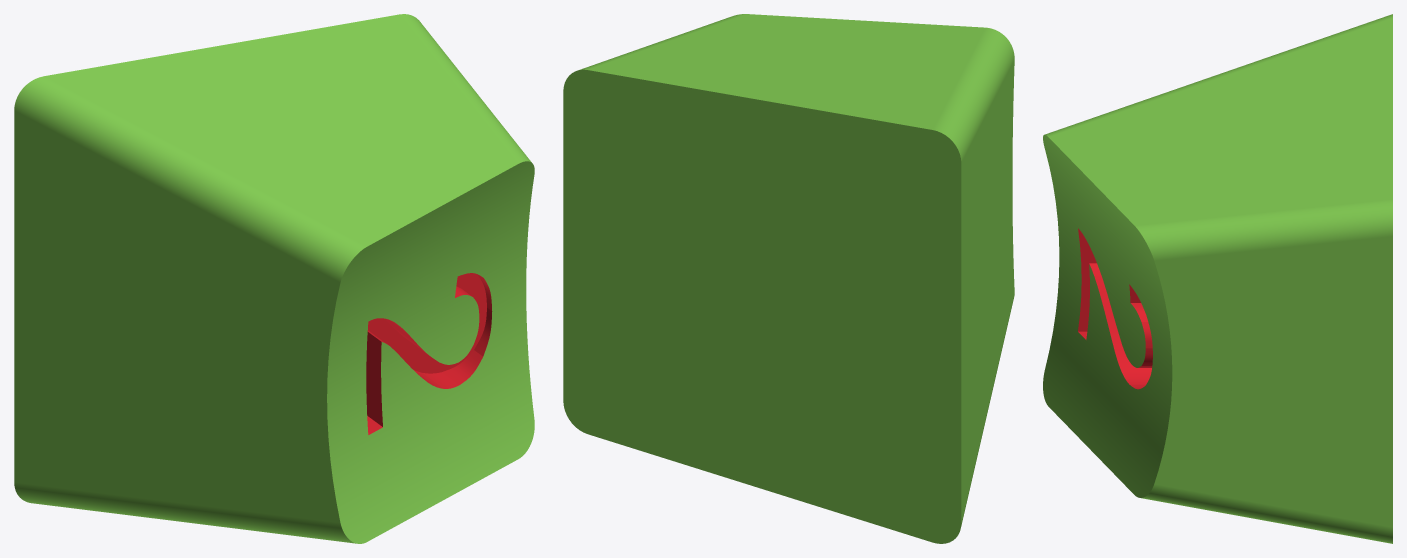
File: Key2.fbx
3 renders of one model, left to right at view 1: azimuth 30°, elevation 25°; view 2: azimuth 150°, elevation 25°; view 3: azimuth 270°, elevation 25°, orthographic. The views are drawn at different scales.
Visible parts, largest first — view 1: Key2 v3; view 2: Key2 v3; view 3: Key2 v3.
Part boxes in pixels (x1,y1,x2,y2): Key2 v3: [14, 14, 534, 543]; Key2 v3: [563, 14, 1014, 543]; Key2 v3: [1043, 14, 1392, 543].
Bounding box in the file's own units: 1500 × 1486 × 1213.
